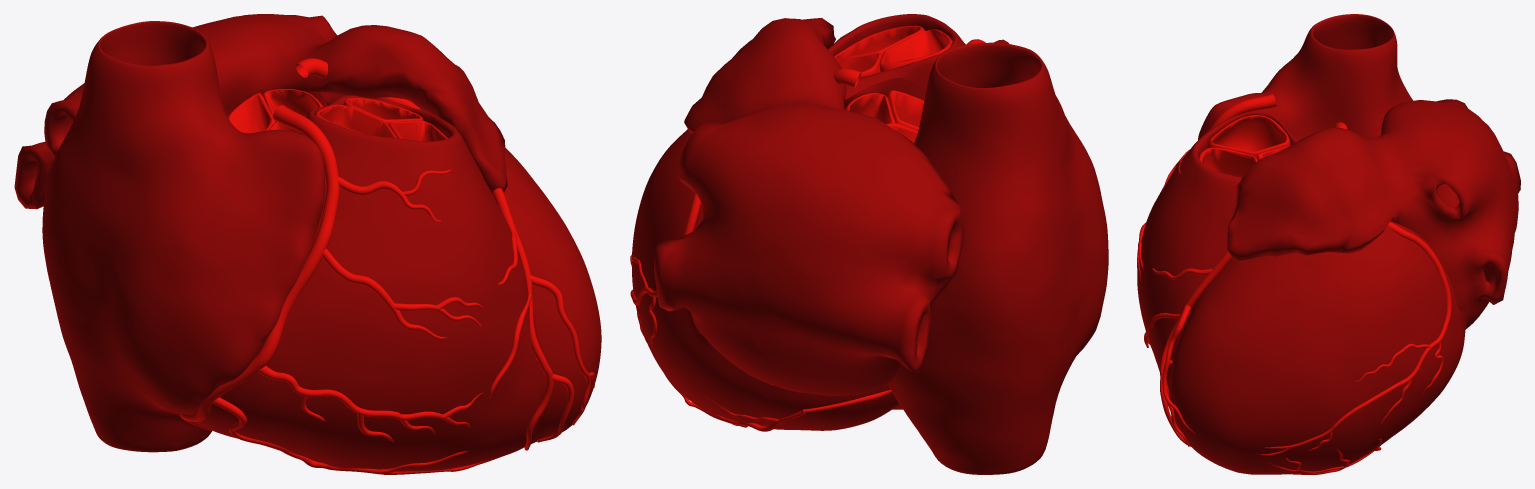
File: heart.glb
3 renders of one model, left to right at view 1: azimuth 30°, elevation 25°; view 2: azimuth 150°, elevation 25°; view 3: azimuth 270°, elevation 25°, orthographic. The views are drawn at different scales.
Visible parts, largest first — view 1: Right atrium, Right ventricle, Left atrium, Coronary_Arteries, Left ventricle; view 2: Left atrium, Right atrium, Left ventricle, Coronary_Arteries, Right ventricle; view 3: Left ventricle, Left atrium, Right atrium, Right ventricle, Coronary_Arteries.
Boxes of the visible parts, left/top/right/bottom form: Right atrium: left=42, top=21, right=324, bottom=452; Right ventricle: left=185, top=92, right=541, bottom=471; Left atrium: left=14, top=14, right=507, bottom=209; Coronary_Arteries: left=179, top=58, right=595, bottom=474; Left ventricle: left=310, top=93, right=601, bottom=443; Left atrium: left=654, top=18, right=963, bottom=395; Right atrium: left=888, top=39, right=1108, bottom=474; Left ventricle: left=631, top=77, right=925, bottom=430; Coronary_Arteries: left=630, top=25, right=985, bottom=431; Right ventricle: left=828, top=14, right=965, bottom=409; Left ventricle: left=1169, top=221, right=1466, bottom=474; Left atrium: left=1227, top=99, right=1520, bottom=329; Right atrium: left=1198, top=14, right=1413, bottom=221; Right ventricle: left=1137, top=111, right=1298, bottom=389; Coronary_Arteries: left=1137, top=94, right=1451, bottom=474.
Bounding box in the file's own units: 0.1191 × 0.108 × 0.1129.
